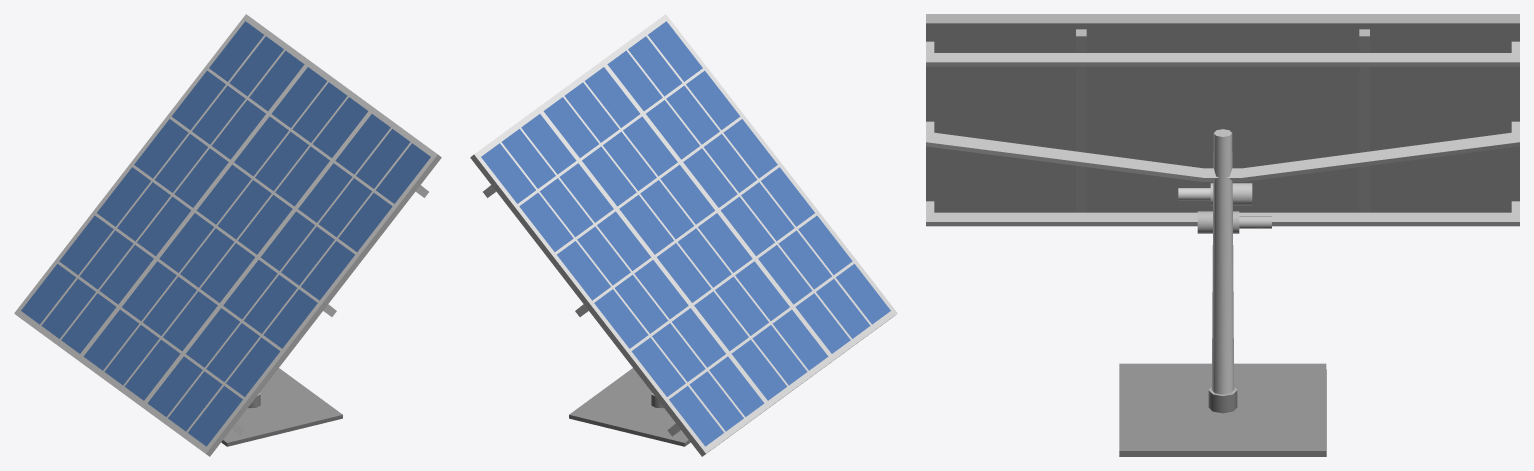
File: solar.glb
3 views of the same model, side by side, from view 1: azimuth 30°, elevation 25°; view 2: azimuth 150°, elevation 25°; view 3: azimuth 270°, elevation 25° (orthographic). The views are drawn at different scales.
Visible parts, largest first — view 1: Plane_003; view 2: Plane_003; view 3: Plane_003.
Boxes of the visible parts, x1,y1,x2,y2 form: Plane_003: (14, 14, 441, 456); Plane_003: (470, 14, 897, 456); Plane_003: (926, 14, 1519, 456).
Bounding box in the file's own units: 2.51 × 3.07 × 3.53.
2 materials, 2 textured.
